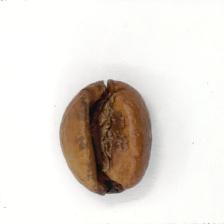NG: (79, 94, 134, 186)
